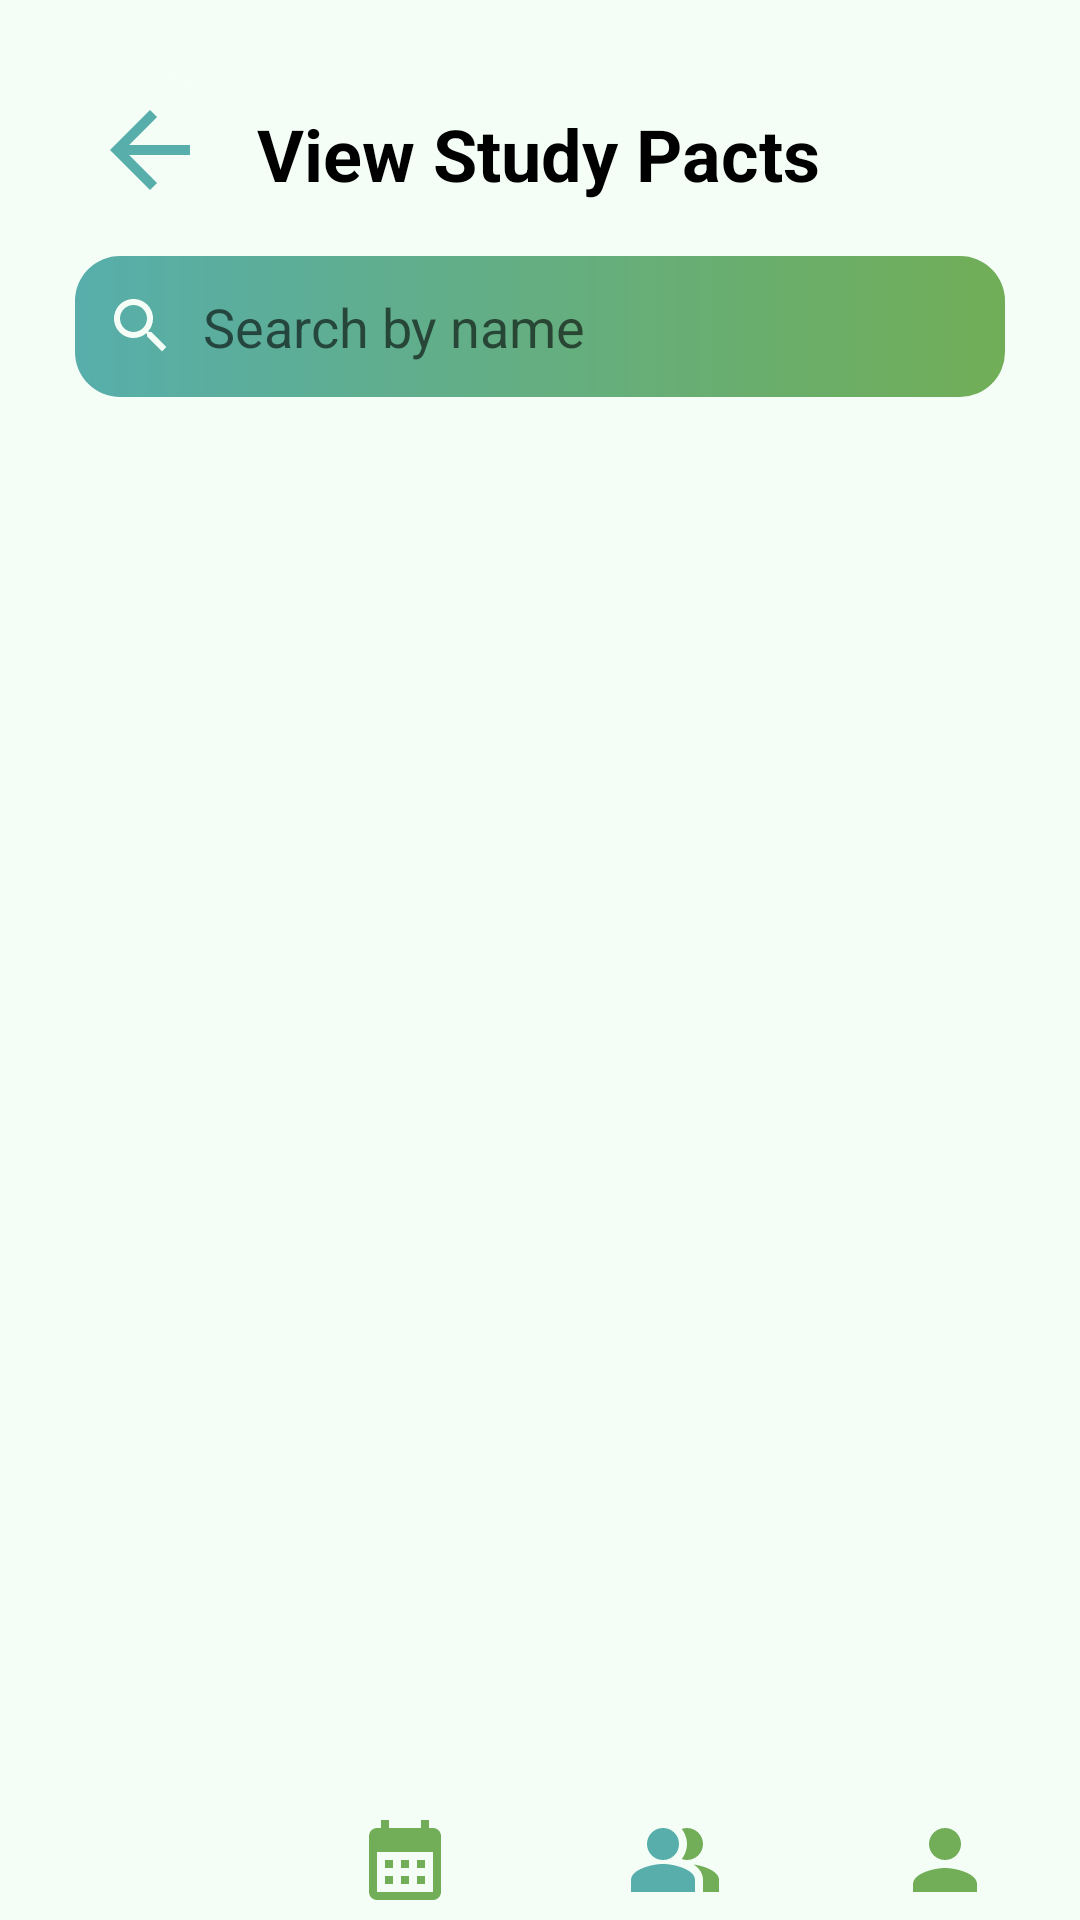

Named icons in this screenshot (1080px x 1920px) and their centers, [x,y]:
calendar: [405,1860]
person: [945,1860]
return arrow: [150,150]
study pact: [675,1860]
